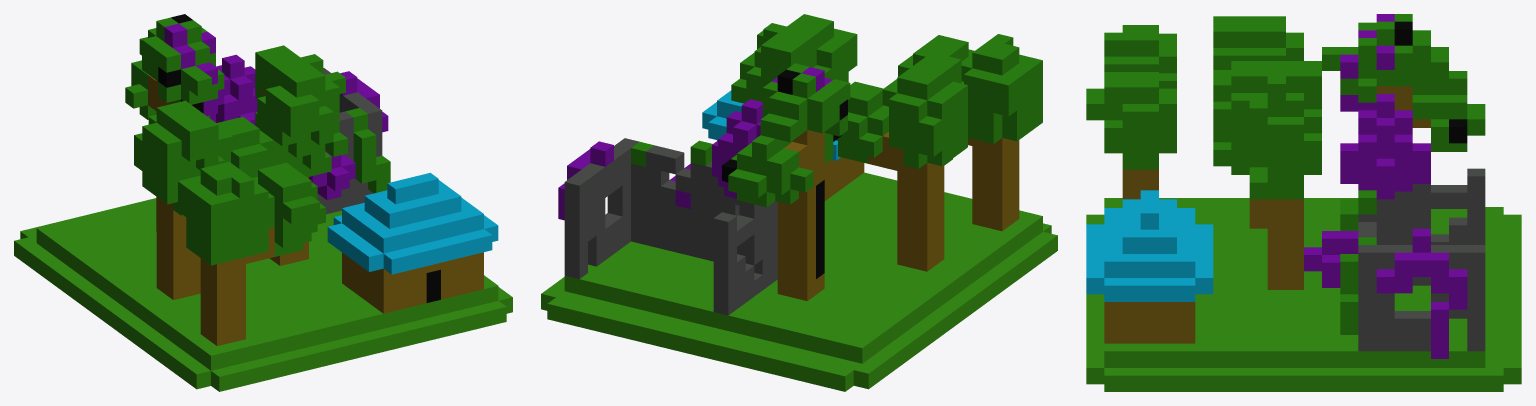
The model's file is World1.gltf.
3 views of the same model, side by side, from view 1: azimuth 30°, elevation 25°; view 2: azimuth 150°, elevation 25°; view 3: azimuth 270°, elevation 25° (orthographic). The views are drawn at different scales.
Parts seen in each view (by area): view 1: Layer.1, Layer.2; view 2: Layer.1, Layer.2; view 3: Layer.1, Layer.2.
Part boxes in pixels (x1,y1,x2,y2): Layer.1: (14, 14, 512, 391); Layer.2: (210, 54, 355, 200); Layer.1: (541, 14, 1057, 391); Layer.2: (670, 99, 762, 208); Layer.1: (1086, 14, 1521, 391); Layer.2: (1304, 94, 1430, 287).
Size of the model in its own units: 22 by 16 by 24.
1 material, 1 textured.
